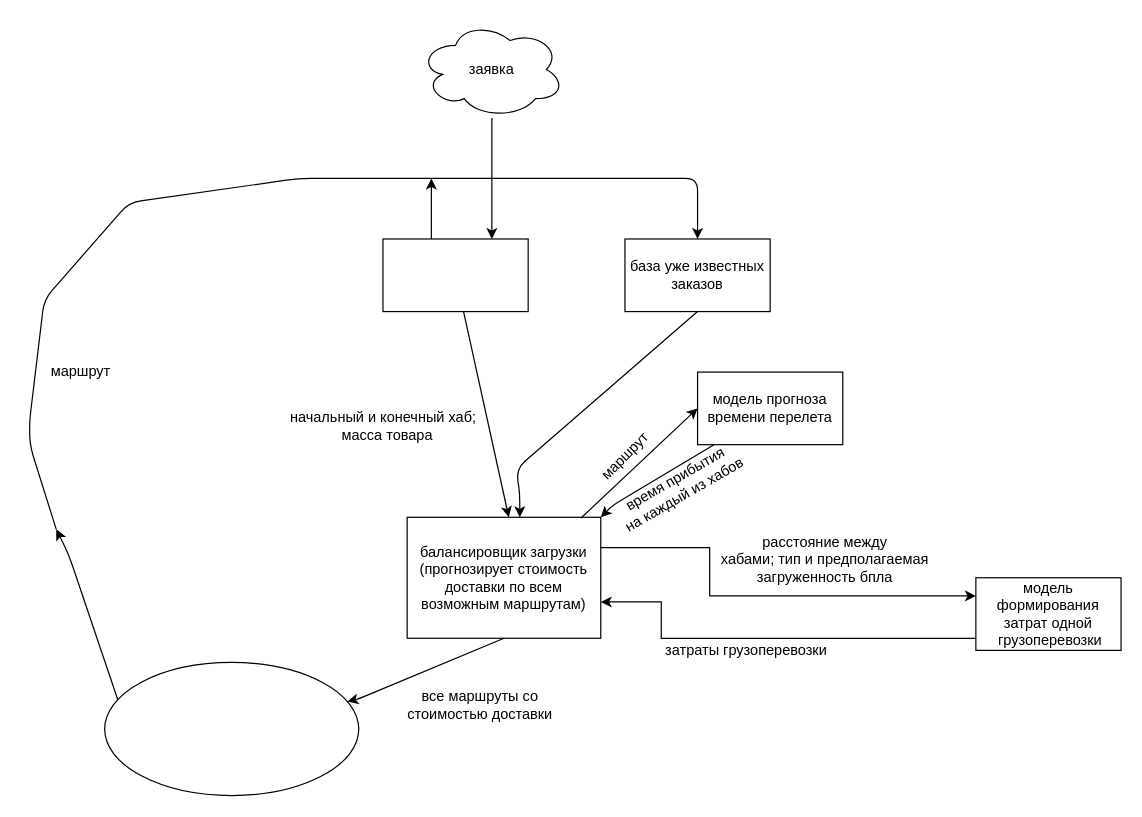
Image size: 1142x817. Some labels were removed from this diagram. The shapes that lost their labels are listed below. From the top down, each one's centre as x and y in pixels, then its label:
At [455,275]: "данные заказа".
At [231,728]: "выбор маршрута по наименьшей сумме весов между узлами".
